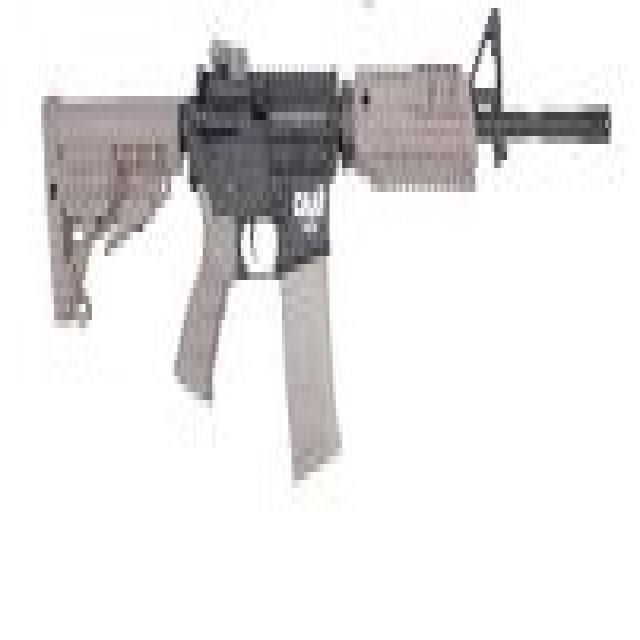rifle: (33, 1, 619, 525)
